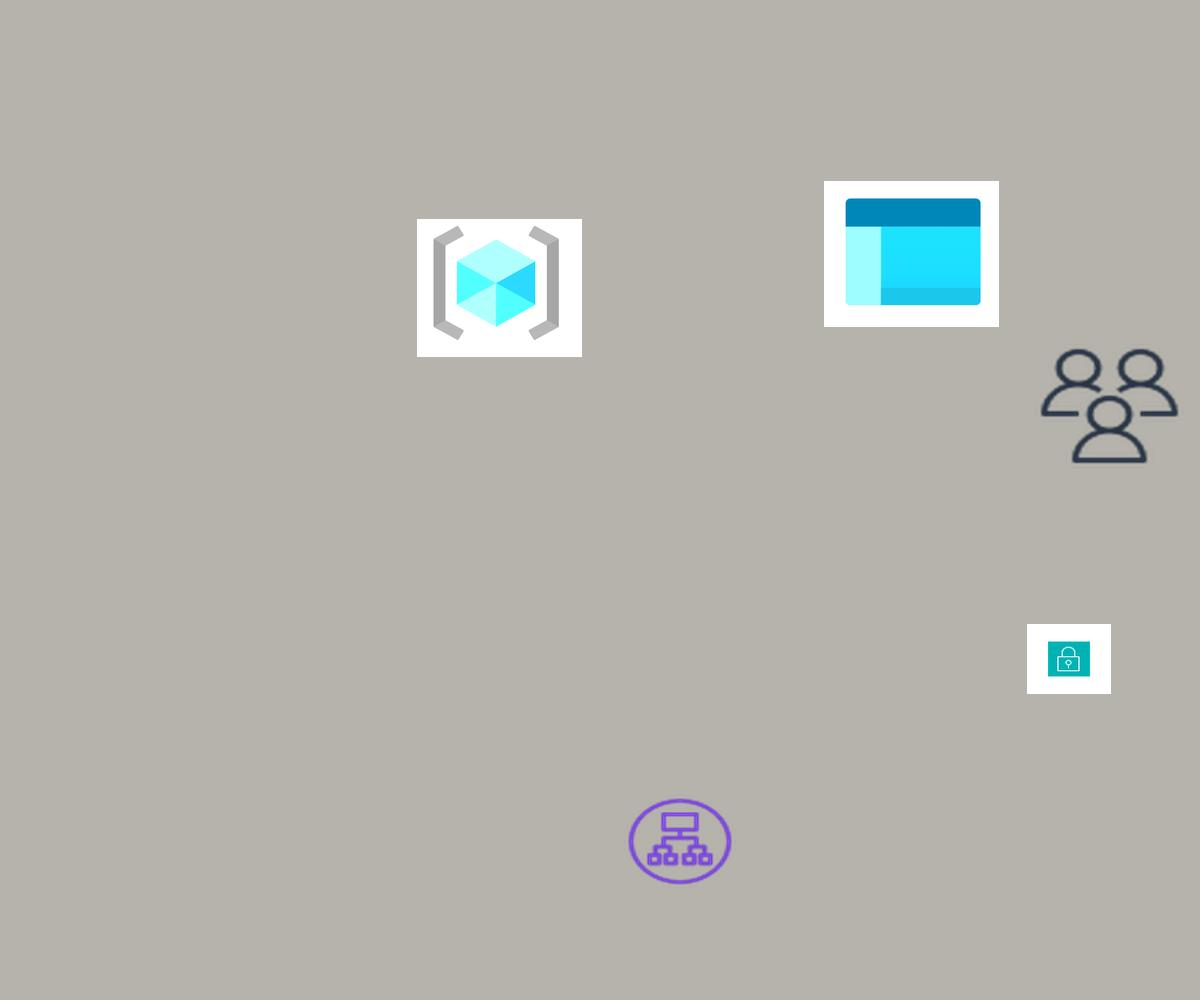AWS-Private-subnet: (1027, 624, 1111, 694)
AWS-Res_Elastic-Load-Balancing_Application-Load-Balancer: (624, 795, 736, 888)
AWS-Res_Users: (1035, 344, 1184, 468)
Azure_management-portal: (824, 181, 999, 327)
Azure_resource_group: (417, 219, 582, 357)
